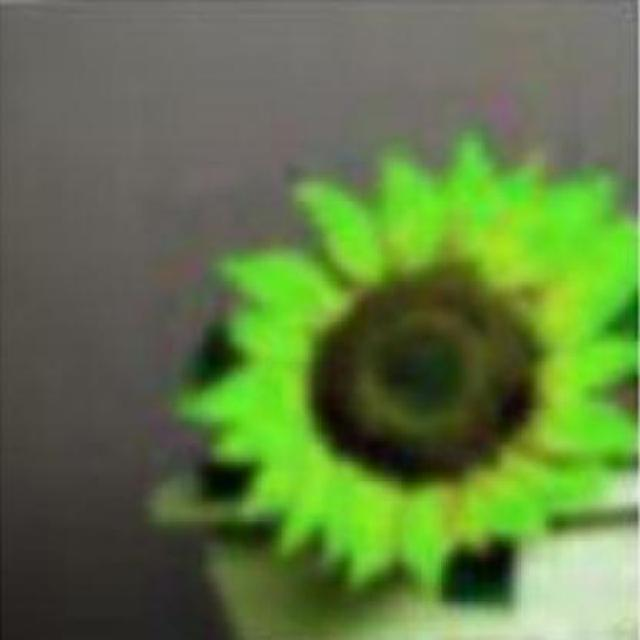sunflower: (173, 125, 640, 598)
